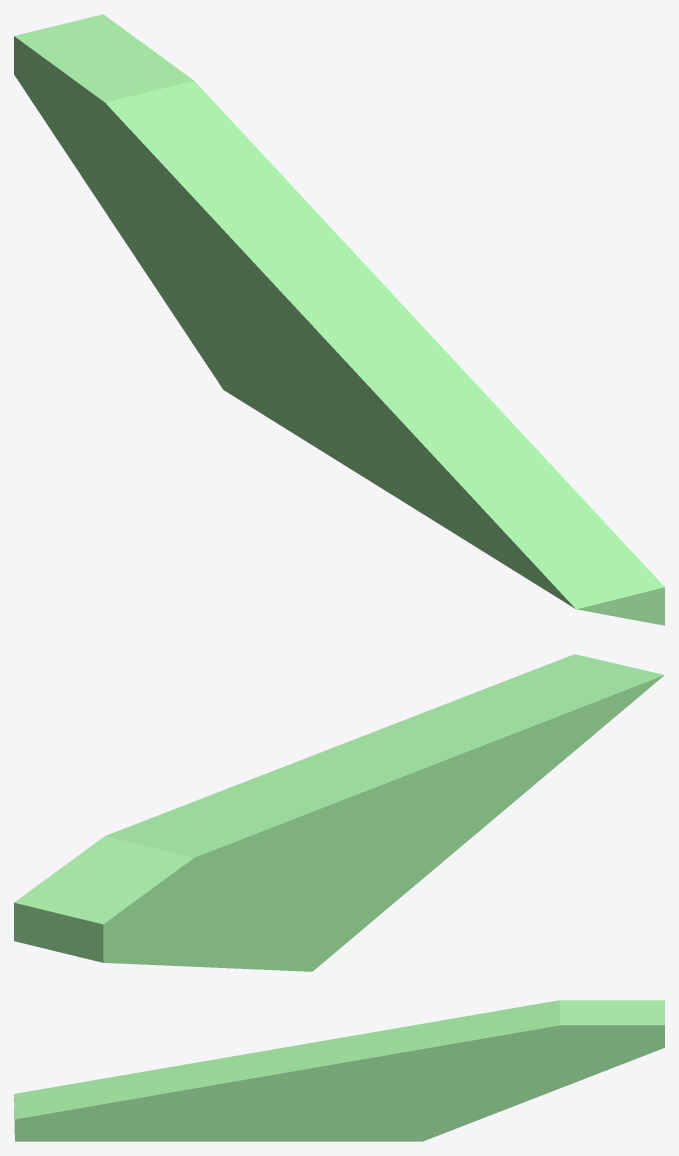
The model's file is dxxx_Lp1_respondable_PSM1_coll_1.dae.
3 views of the same model, one above another, from view 1: azimuth 30°, elevation 25°; view 2: azimuth 150°, elevation 25°; view 3: azimuth 270°, elevation 25° (orthographic). The views are drawn at different scales.
Visible parts, largest first — view 1: Node_000001D818CB9280; view 2: Node_000001D818CB9280; view 3: Node_000001D818CB9280.
Boxes of the visible parts, x1,y1,x2,y2 form: Node_000001D818CB9280: (14,14,664,625); Node_000001D818CB9280: (14,654,664,971); Node_000001D818CB9280: (14,1000,664,1141).
Bounding box in the file's own units: 0.0171 × 0.0365 × 0.1853.
